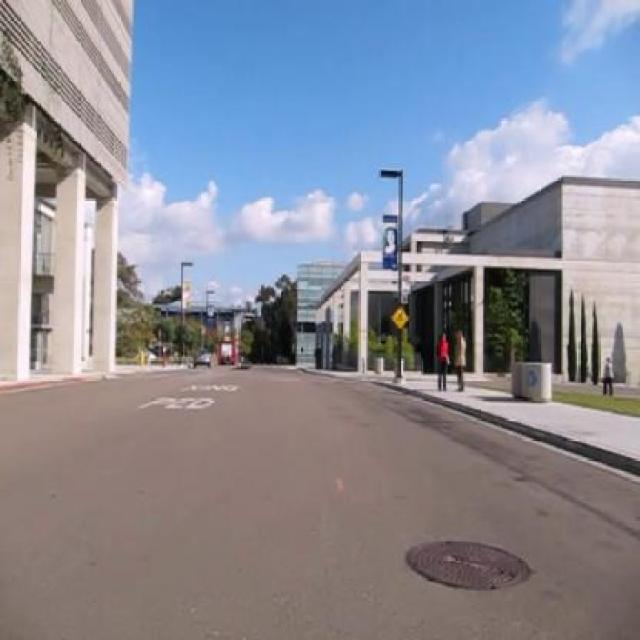pedestrianCrossing: (389, 305, 409, 331)
